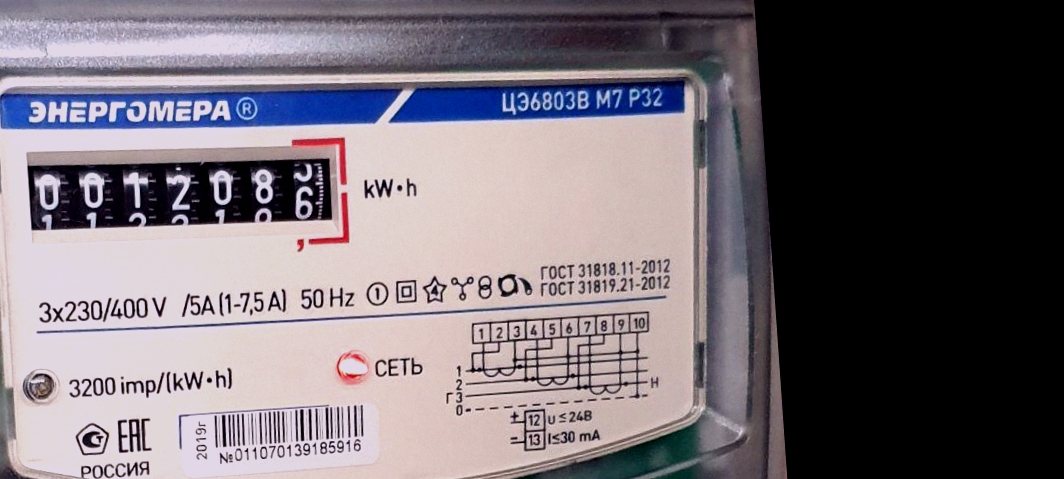0: (77, 167, 108, 211), (34, 168, 61, 211), (208, 166, 234, 206)
1: (122, 167, 147, 209)
2: (166, 171, 193, 211)
6: (289, 182, 315, 220)
8: (250, 164, 275, 206)
screen: (15, 115, 363, 278)
